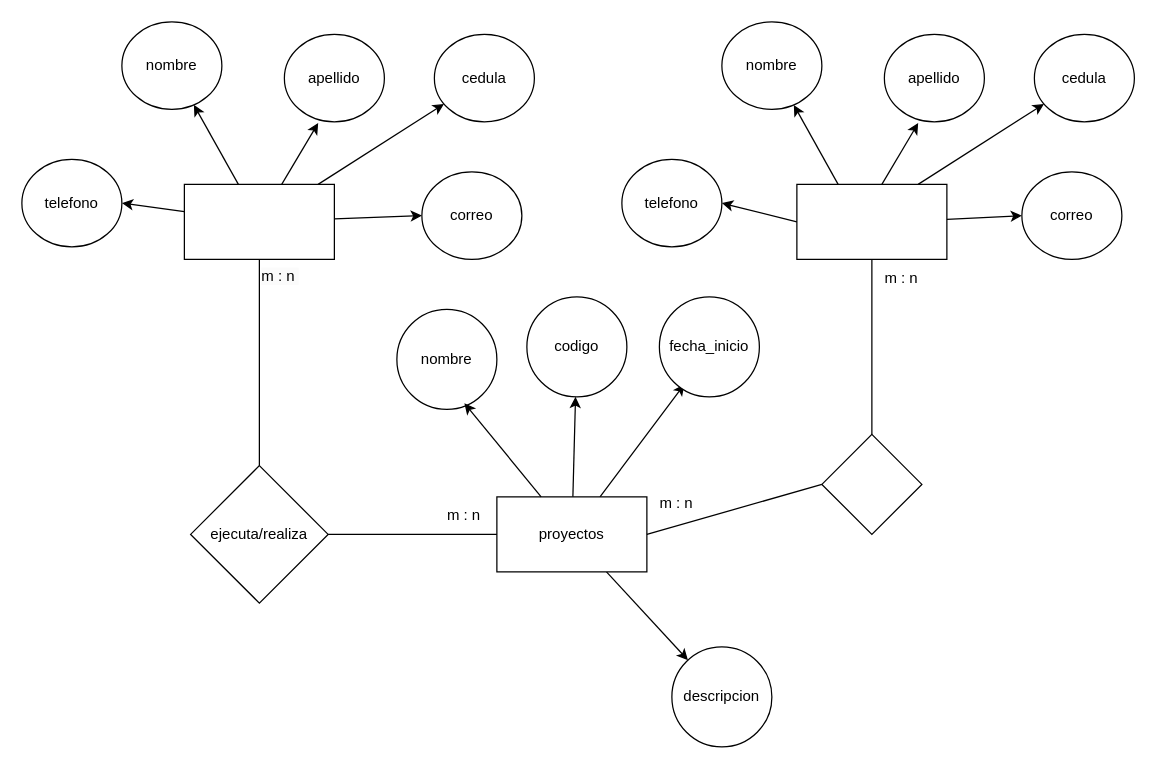
Image size: 1156x769. Some labels were removed from this diagram. Each missing label, with the centre of its shape:
empleados: point (258, 221)
supervisa: point (871, 483)
supervisores: point (871, 221)
